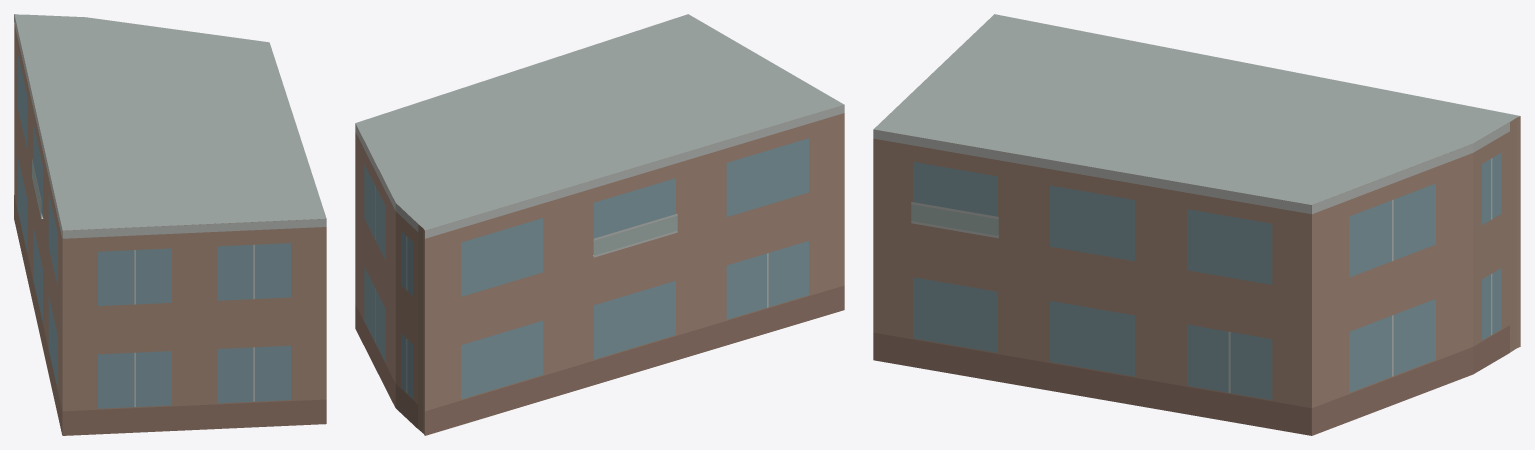
The model's file is survey-upis-32893221.glb.
3 renders of one model, left to right at view 1: azimuth 30°, elevation 25°; view 2: azimuth 150°, elevation 25°; view 3: azimuth 270°, elevation 25°, orthographic. The views are drawn at different scales.
Parts seen in each view (by area): view 1: survey-upis-32893221.tmp; view 2: survey-upis-32893221.tmp; view 3: survey-upis-32893221.tmp.
Boxes of the visible parts, left/top/right/bottom form: survey-upis-32893221.tmp: left=14, top=14, right=326, bottom=435; survey-upis-32893221.tmp: left=355, top=14, right=844, bottom=435; survey-upis-32893221.tmp: left=873, top=14, right=1520, bottom=435.
Bounding box in the file's own units: 10.84 × 6.1 × 15.52.
